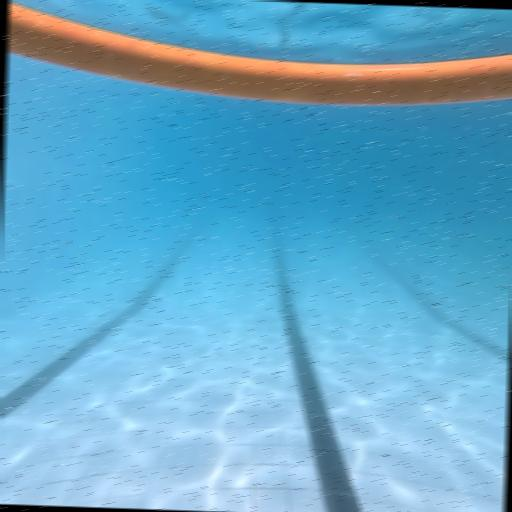upper_gate: (4, 1, 512, 110)
